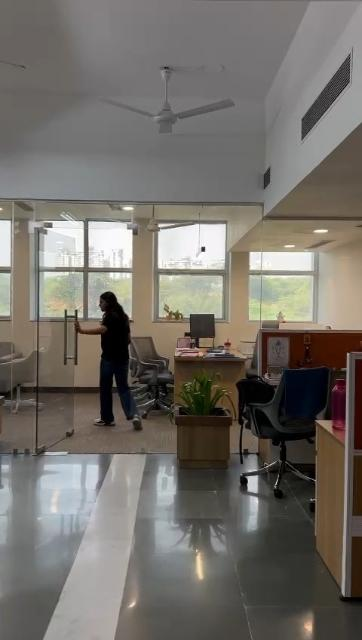floor: (0, 429, 359, 640)
moving-obj: (74, 278, 158, 426)
object: (238, 367, 334, 489), (166, 372, 231, 472), (131, 332, 171, 414), (0, 336, 42, 414), (183, 314, 219, 351)
wall: (318, 225, 362, 319), (136, 217, 164, 326), (230, 213, 252, 344), (16, 226, 36, 334)
